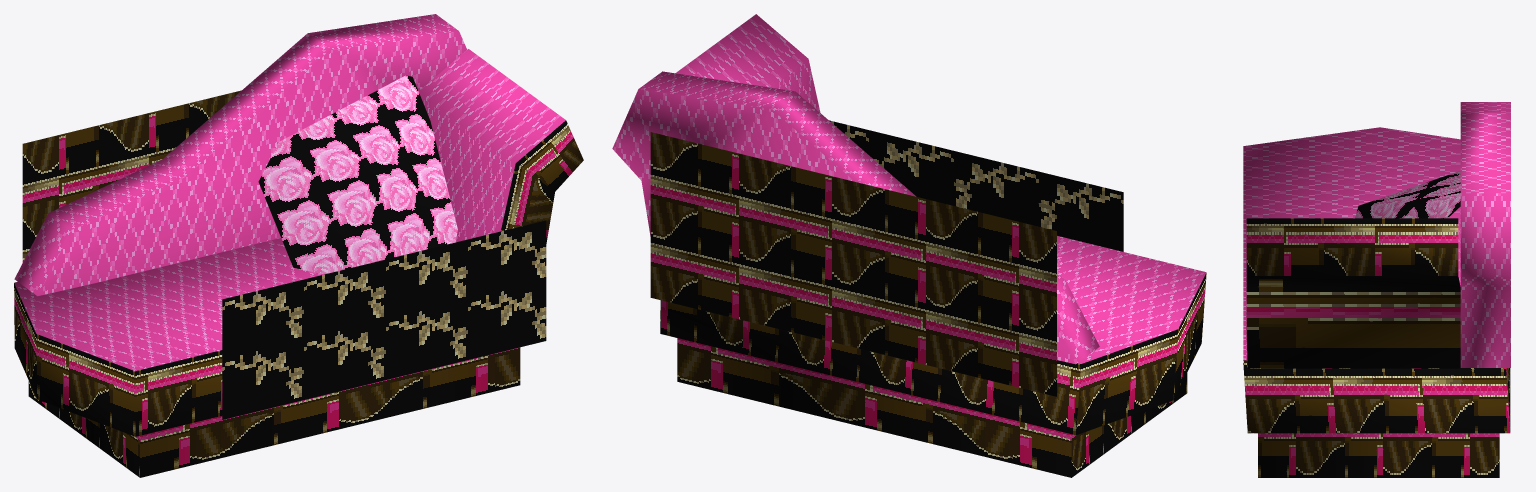
3 renders of one model, left to right at view 1: azimuth 30°, elevation 25°; view 2: azimuth 150°, elevation 25°; view 3: azimuth 270°, elevation 25°, orthographic. The views are drawn at different scales.
Parts seen in each view (by area): view 1: 3924kg3_dl06; view 2: 3924kg3_dl06; view 3: 3924kg3_dl06.
Boxes of the visible parts, x1,y1,x2,y2 form: 3924kg3_dl06: (14,14,583,477); 3924kg3_dl06: (612,14,1206,477); 3924kg3_dl06: (1243,102,1510,477).
Size of the model in its own units: 1.94 by 1.1 by 0.9097.
Materials: 4 (4 with a texture image).
